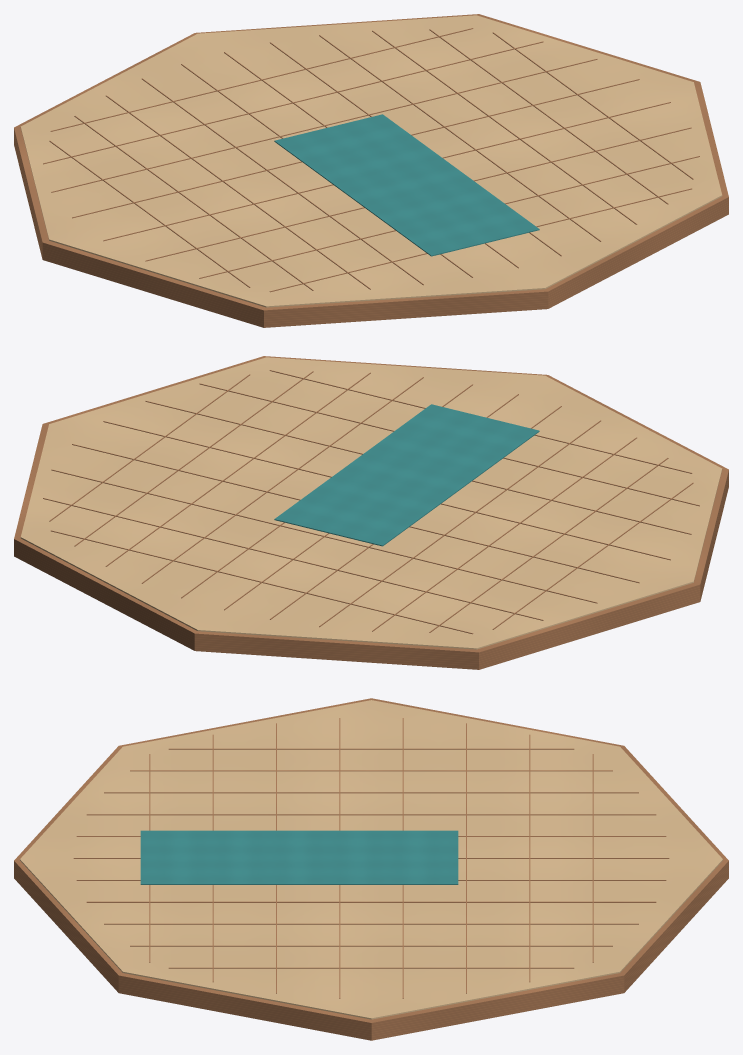
The model's file is atlas100-s091-a07.glb.
3 views of the same model, one above another, from view 1: azimuth 30°, elevation 25°; view 2: azimuth 150°, elevation 25°; view 3: azimuth 270°, elevation 25° (orthographic).
Visible parts, largest first — view 1: atlas100-s091-a07:part-001, atlas100-s091-a07:part-000, atlas100-s091-a07:part-021, atlas100-s091-a07:part-015, atlas100-s091-a07:part-014, atlas100-s091-a07:part-016, atlas100-s091-a07:part-017, atlas100-s091-a07:part-018, atlas100-s091-a07:part-013, atlas100-s091-a07:part-019, atlas100-s091-a07:part-005, atlas100-s091-a07:part-009 (+3 smaller); view 2: atlas100-s091-a07:part-001, atlas100-s091-a07:part-000, atlas100-s091-a07:part-021, atlas100-s091-a07:part-015, atlas100-s091-a07:part-014, atlas100-s091-a07:part-017, atlas100-s091-a07:part-016, atlas100-s091-a07:part-018, atlas100-s091-a07:part-013, atlas100-s091-a07:part-019, atlas100-s091-a07:part-009, atlas100-s091-a07:part-005 (+3 smaller); view 3: atlas100-s091-a07:part-001, atlas100-s091-a07:part-000, atlas100-s091-a07:part-021, atlas100-s091-a07:part-009, atlas100-s091-a07:part-005, atlas100-s091-a07:part-004, atlas100-s091-a07:part-010, atlas100-s091-a07:part-011, atlas100-s091-a07:part-003, atlas100-s091-a07:part-002, atlas100-s091-a07:part-012.
Part boxes in pixels (<box>): atlas100-s091-a07:part-001: <box>20,15,722,307</box>; atlas100-s091-a07:part-000: <box>14,14,728,327</box>; atlas100-s091-a07:part-021: <box>274,114,539,256</box>; atlas100-s091-a07:part-015: <box>51,59,597,192</box>; atlas100-s091-a07:part-014: <box>43,41,543,164</box>; atlas100-s091-a07:part-016: <box>72,79,639,218</box>; atlas100-s091-a07:part-017: <box>103,102,670,241</box>; atlas100-s091-a07:part-018: <box>145,127,691,261</box>; atlas100-s091-a07:part-013: <box>50,28,473,131</box>; atlas100-s091-a07:part-019: <box>199,156,699,278</box>; atlas100-s091-a07:part-005: <box>142,78,423,285</box>; atlas100-s091-a07:part-009: <box>319,35,601,241</box>; atlas100-s091-a07:part-001: <box>20,357,722,649</box>; atlas100-s091-a07:part-000: <box>14,356,728,669</box>; atlas100-s091-a07:part-021: <box>274,404,539,546</box>; atlas100-s091-a07:part-015: <box>51,469,597,603</box>; atlas100-s091-a07:part-014: <box>43,498,543,620</box>; atlas100-s091-a07:part-017: <box>103,421,670,560</box>; atlas100-s091-a07:part-016: <box>72,444,639,583</box>; atlas100-s091-a07:part-018: <box>145,401,691,534</box>; atlas100-s091-a07:part-013: <box>51,530,473,634</box>; atlas100-s091-a07:part-019: <box>199,383,699,506</box>; atlas100-s091-a07:part-009: <box>141,377,423,583</box>; atlas100-s091-a07:part-005: <box>319,420,600,627</box>; atlas100-s091-a07:part-001: <box>20,700,722,1019</box>; atlas100-s091-a07:part-000: <box>14,698,728,1040</box>; atlas100-s091-a07:part-021: <box>140,830,458,884</box>; atlas100-s091-a07:part-009: <box>86,901,656,902</box>; atlas100-s091-a07:part-005: <box>86,814,656,815</box>; atlas100-s091-a07:part-004: <box>104,792,638,793</box>; atlas100-s091-a07:part-010: <box>104,923,638,924</box>; atlas100-s091-a07:part-011: <box>130,945,612,946</box>; atlas100-s091-a07:part-003: <box>130,770,612,771</box>; atlas100-s091-a07:part-002: <box>168,748,574,749</box>; atlas100-s091-a07:part-012: <box>168,967,574,968</box>.
Size of the model in its own units: 13.35 by 0.404 by 12.42.
Materials: 3 (3 with a texture image).
